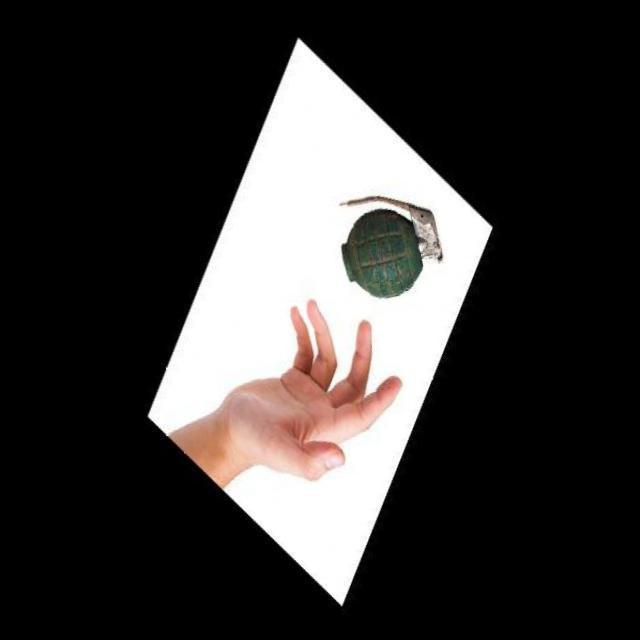grenade: (322, 172, 456, 309)
